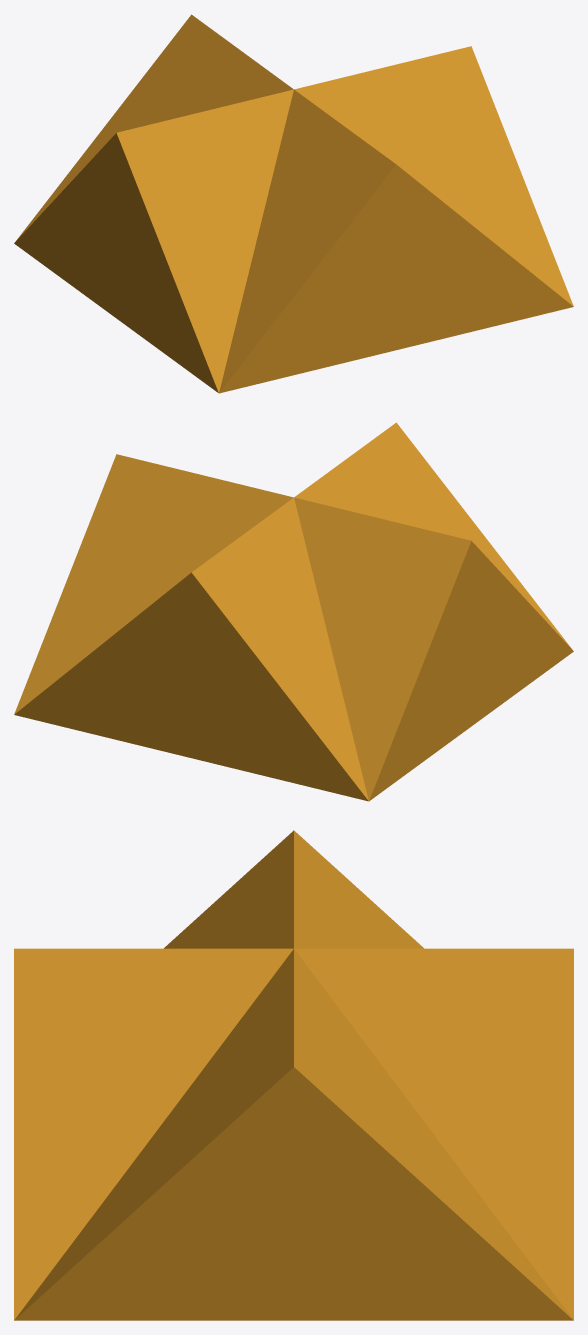
Rendered from Roof-Mid-4x4x2-Gable-Cross.FBX.
The picture shows the model from 3 angles, top to bottom: view 1: azimuth 30°, elevation 25°; view 2: azimuth 150°, elevation 25°; view 3: azimuth 270°, elevation 25°; orthographic projection. The views are drawn at different scales.
Parts seen in each view (by area): view 1: Roof-Mid-4x4x2-Gable-Cross; view 2: Roof-Mid-4x4x2-Gable-Cross; view 3: Roof-Mid-4x4x2-Gable-Cross.
Part boxes in pixels (<box>): Roof-Mid-4x4x2-Gable-Cross: <box>14,14,573,393</box>; Roof-Mid-4x4x2-Gable-Cross: <box>14,422,573,801</box>; Roof-Mid-4x4x2-Gable-Cross: <box>14,830,573,1320</box>.
Size of the model in its own units: 40 by 40 by 20.
